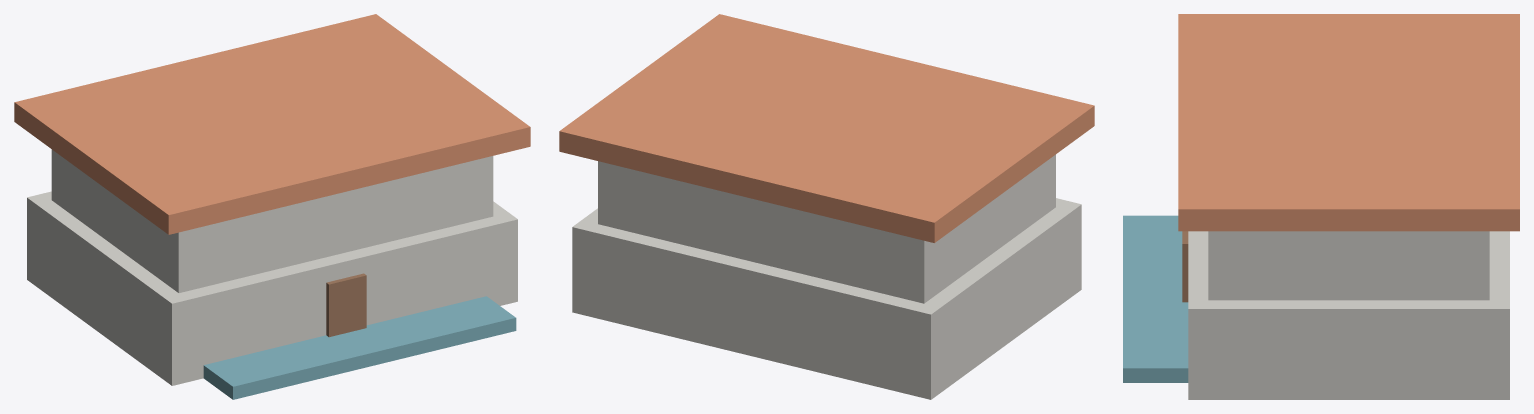
The model's file is courtyard_mansion.glb.
The picture shows the model from 3 angles, left to right: view 1: azimuth 30°, elevation 25°; view 2: azimuth 150°, elevation 25°; view 3: azimuth 270°, elevation 25°; orthographic projection. The views are drawn at different scales.
Visible parts, largest first — view 1: Terracotta_Roof_Node, GroundFloor_Node, UpperFloor_Node, ThinnaiVeranda_Node, CarvedDoorway_Node; view 2: Terracotta_Roof_Node, GroundFloor_Node, UpperFloor_Node; view 3: Terracotta_Roof_Node, GroundFloor_Node, UpperFloor_Node, ThinnaiVeranda_Node, CarvedDoorway_Node.
Boxes of the visible parts, x1,y1,x2,y2 form: Terracotta_Roof_Node: (14, 14, 530, 234); GroundFloor_Node: (27, 191, 517, 385); UpperFloor_Node: (51, 149, 493, 292); ThinnaiVeranda_Node: (203, 296, 516, 399); CarvedDoorway_Node: (326, 273, 366, 337); Terracotta_Roof_Node: (559, 14, 1094, 242); GroundFloor_Node: (572, 198, 1081, 399); UpperFloor_Node: (598, 154, 1055, 303); Terracotta_Roof_Node: (1178, 14, 1519, 231); GroundFloor_Node: (1188, 231, 1509, 399); UpperFloor_Node: (1208, 231, 1489, 300); ThinnaiVeranda_Node: (1123, 215, 1188, 382); CarvedDoorway_Node: (1182, 231, 1188, 302).
Size of the model in its own units: 23 by 10.7 by 19.75.
